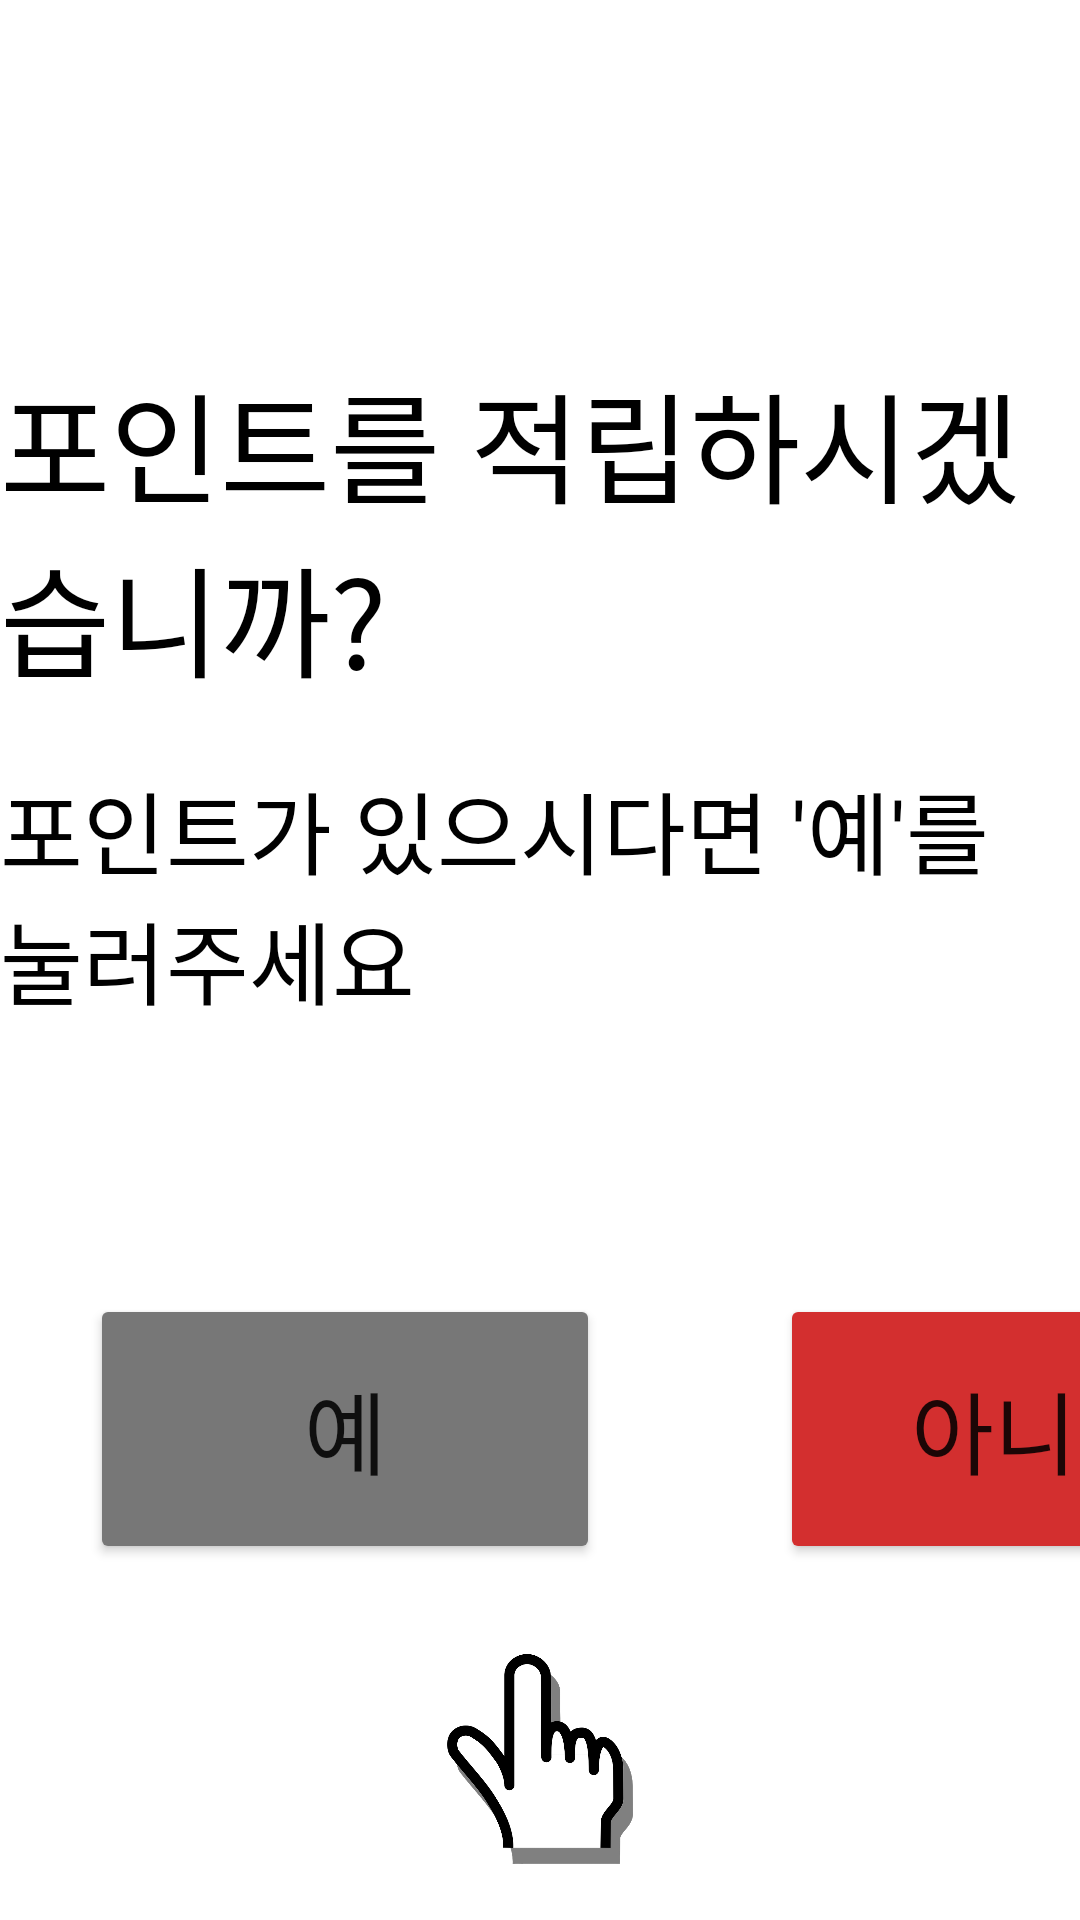

Named icons in this screenshot (1080×1920) and their bounding boxes, (x1, y1, x2, y2):
finger: (447, 1654, 633, 1864)
